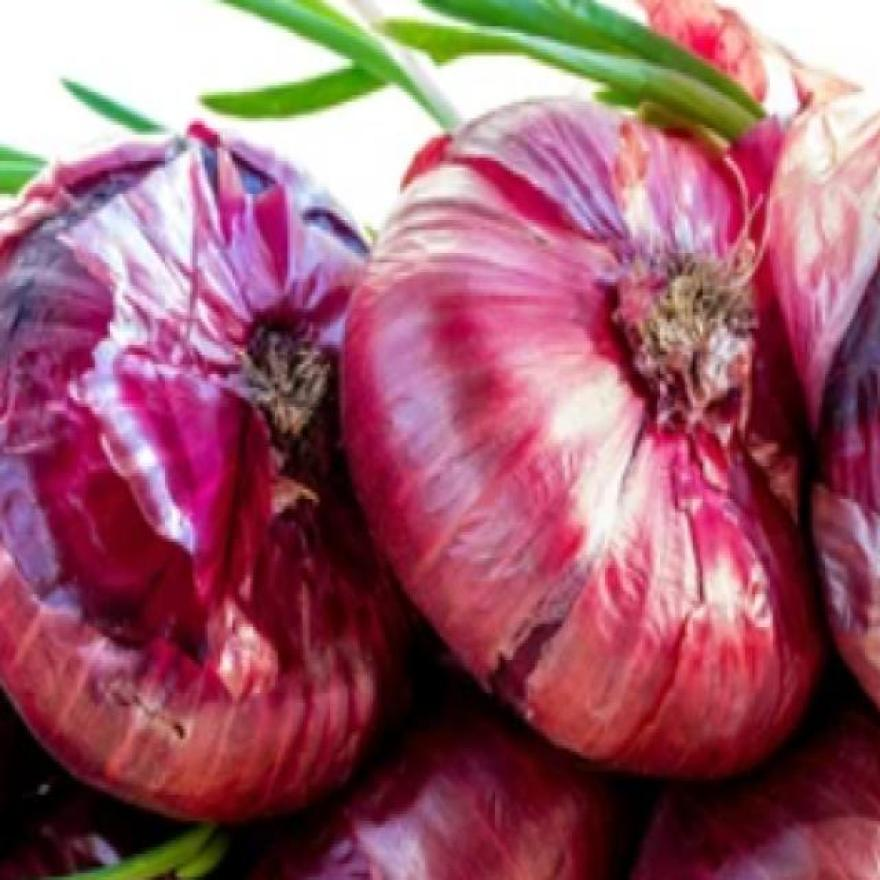Rotten: (22, 190, 232, 676)
Sprouted: (630, 36, 767, 154)
